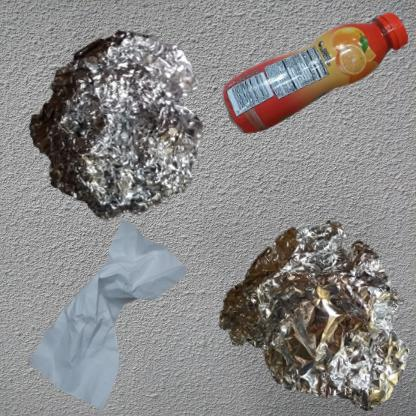aluminio: (10, 10, 234, 249), (213, 213, 416, 414)
botella: (213, 10, 416, 147)
papel: (10, 213, 208, 416)
